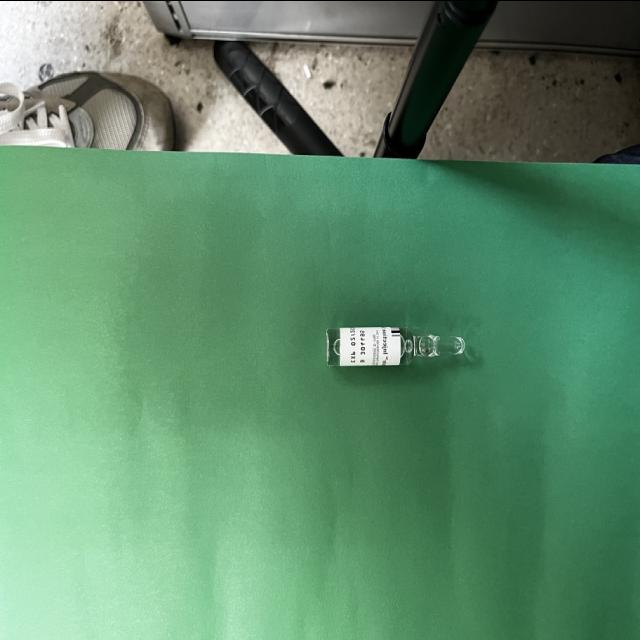Ampoules: (326, 326, 466, 365)
